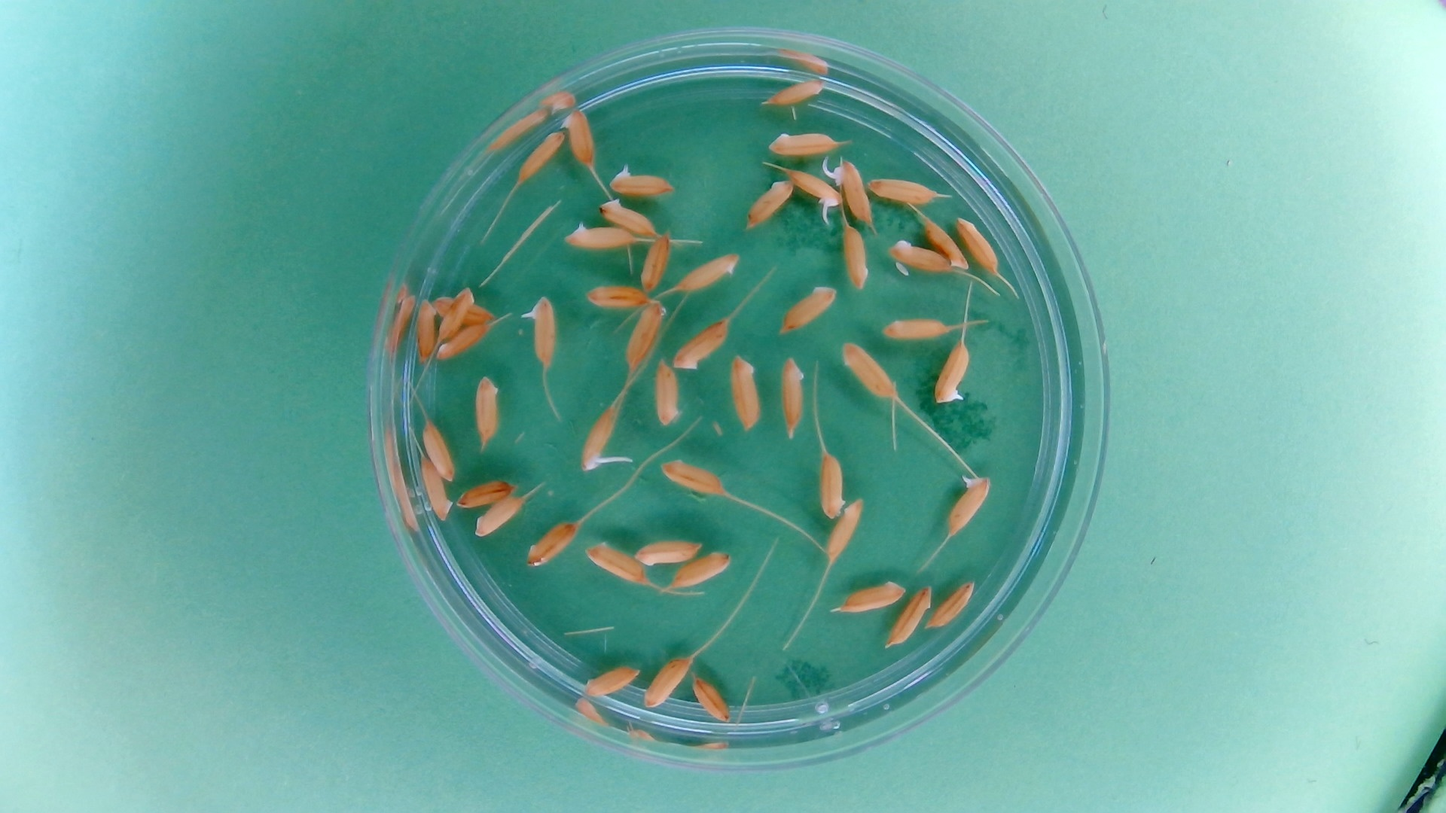no: (839, 340, 899, 401), (672, 315, 732, 371), (622, 300, 666, 373), (885, 583, 934, 648), (778, 283, 839, 335), (954, 213, 1001, 278), (673, 250, 742, 293), (823, 497, 866, 564), (584, 541, 648, 586), (515, 129, 566, 184), (744, 177, 795, 232), (642, 655, 692, 710), (836, 577, 908, 615), (728, 353, 763, 431), (926, 578, 977, 631), (525, 518, 579, 568), (886, 237, 955, 276), (921, 214, 969, 270), (669, 550, 733, 591), (435, 318, 496, 361), (660, 458, 728, 496), (419, 416, 456, 483), (434, 285, 476, 344), (864, 174, 941, 206), (560, 106, 599, 169), (779, 355, 808, 438), (598, 197, 657, 237), (764, 128, 842, 158), (417, 457, 453, 522), (473, 495, 526, 538), (639, 228, 673, 294), (816, 449, 847, 520), (472, 374, 502, 447), (651, 358, 682, 428), (878, 314, 952, 343), (761, 76, 826, 109), (690, 672, 732, 723), (841, 223, 872, 291), (633, 537, 703, 567), (583, 663, 642, 698), (456, 477, 518, 510), (436, 297, 495, 329), (584, 282, 651, 310), (412, 295, 438, 365)
yes: (945, 473, 992, 537), (832, 157, 872, 225), (578, 405, 617, 473), (932, 339, 972, 405), (525, 296, 559, 368), (786, 166, 842, 209), (609, 165, 676, 197), (568, 225, 633, 249)
